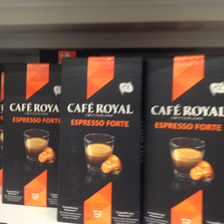coffee: (57, 55, 144, 224), (145, 54, 223, 224), (2, 63, 60, 207)
